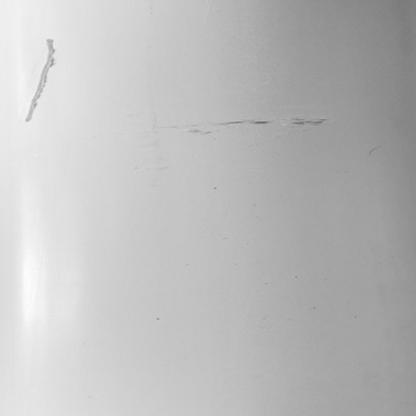sunshang: (173, 111, 337, 136), (25, 37, 61, 122)
